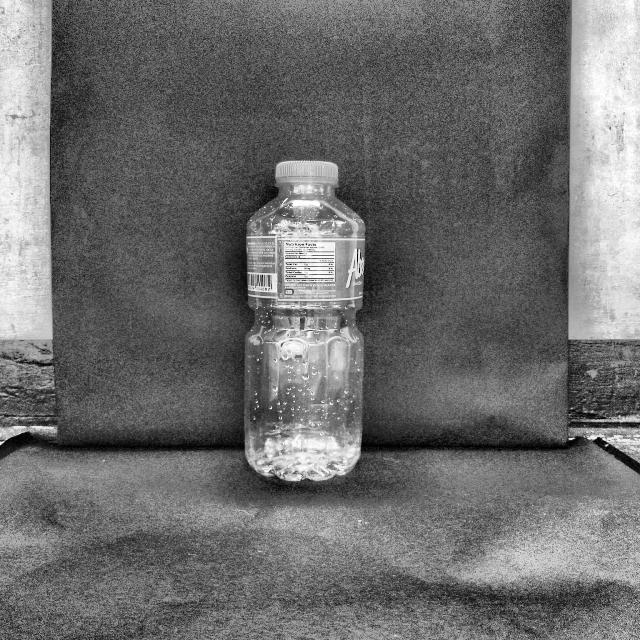Plastic-Bottle: (242, 157, 368, 485)
